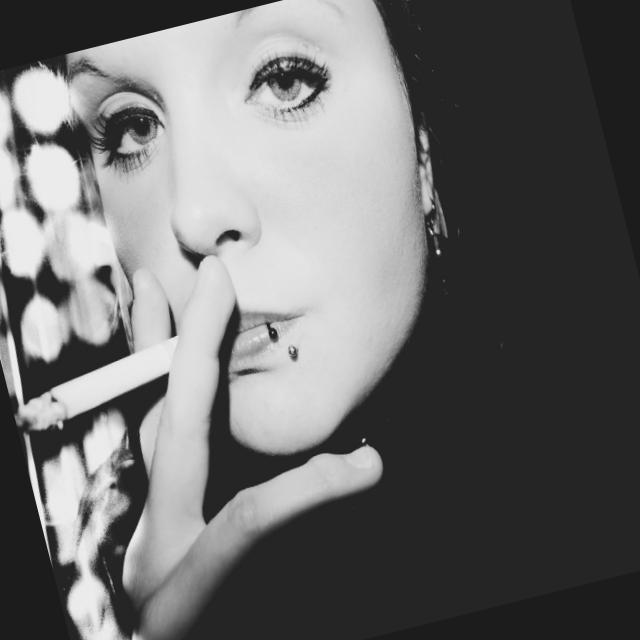smoke: (24, 338, 202, 461)
